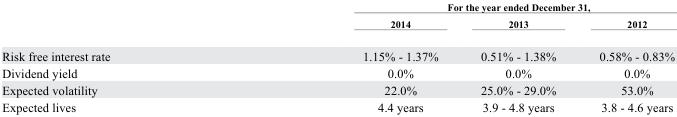table: (1, 0, 674, 113)
table column: (1, 0, 235, 113), (235, 0, 458, 113), (458, 0, 577, 113), (577, 0, 674, 113)
table column header: (1, 0, 674, 38)
table row: (1, 38, 674, 64), (1, 14, 674, 38), (1, 64, 674, 81), (1, 81, 674, 98), (1, 98, 674, 113), (1, 0, 674, 14)
table spanning cell: (235, 0, 674, 14)
